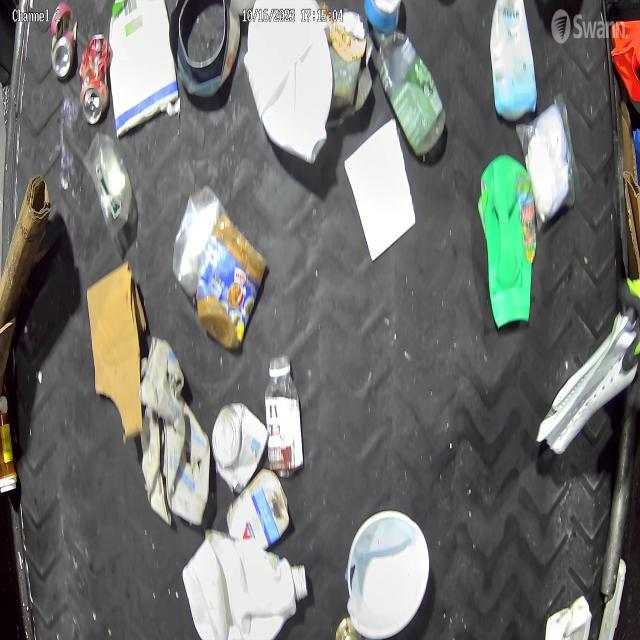can: (210, 408, 268, 492), (80, 31, 110, 126), (52, 6, 77, 85)
milk_jug: (248, 0, 338, 162), (178, 535, 310, 640)
non_white_jug: (481, 153, 540, 334)
plastic_bottle: (372, 31, 448, 158)
